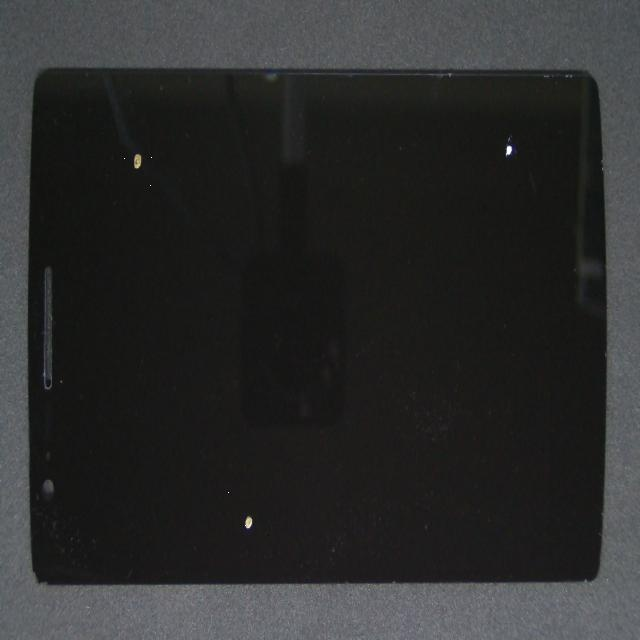stain: (127, 273, 382, 640), (239, 105, 640, 275), (54, 54, 185, 263)
